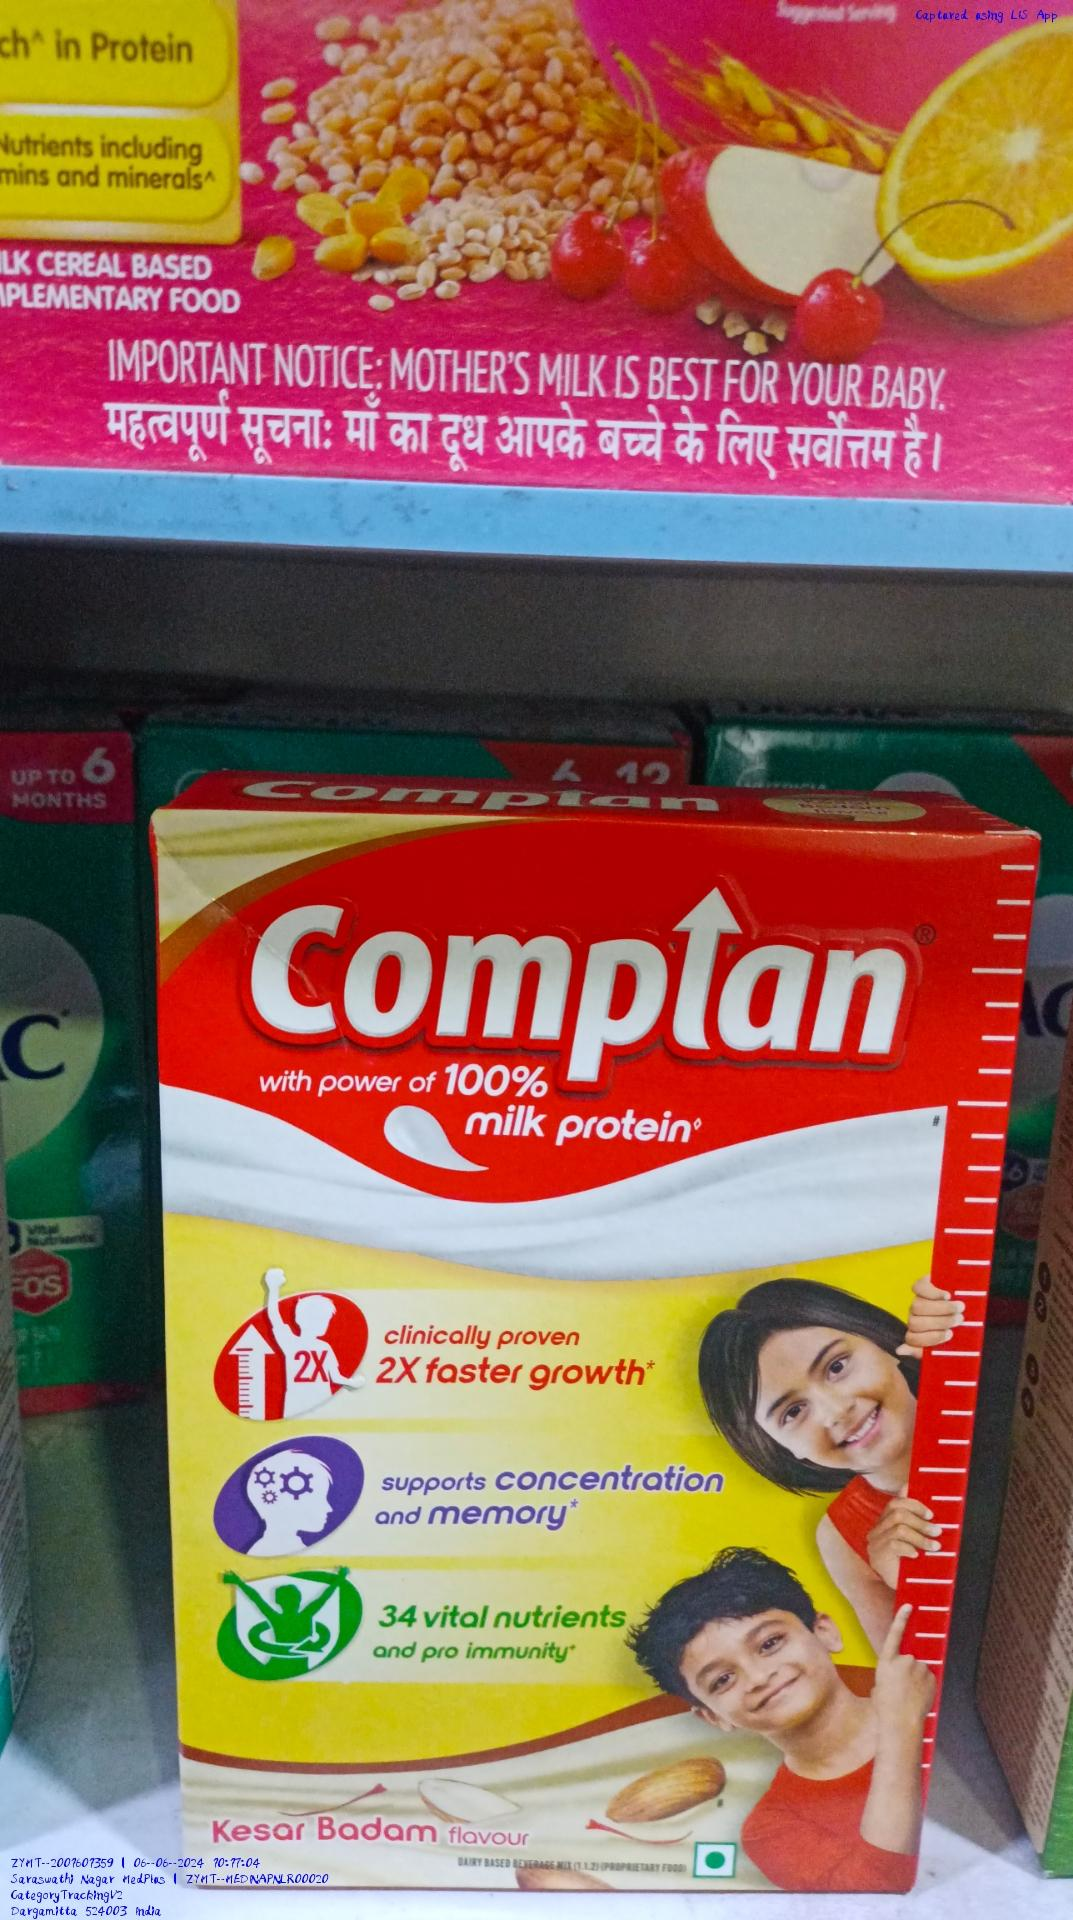COMPLAN_KESAR_BADAM_500_GMS_PACK: (156, 799, 989, 1884)
